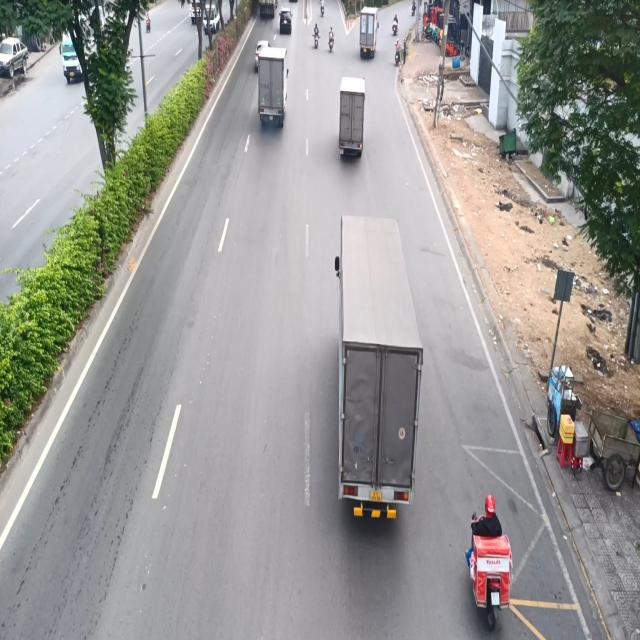motor: (464, 492, 514, 620), (313, 22, 321, 52), (328, 24, 334, 51)
truck: (328, 206, 422, 532), (335, 74, 367, 175), (256, 45, 290, 132)
